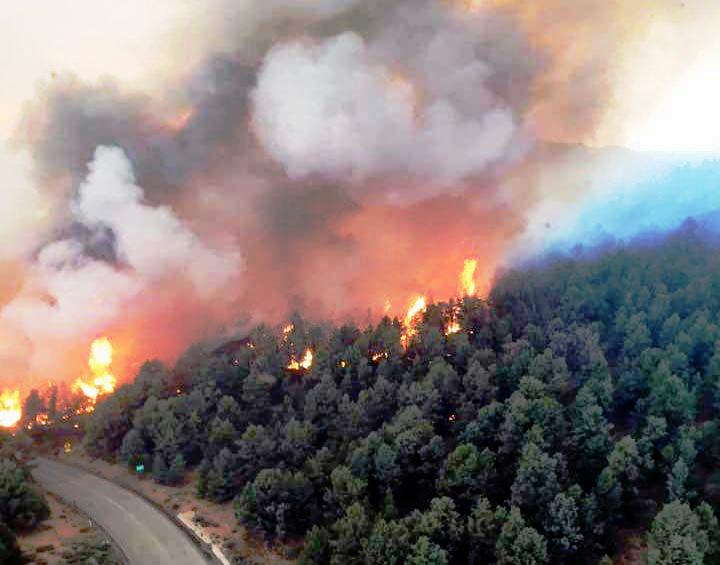fire: (1, 332, 140, 434), (395, 262, 494, 352), (268, 323, 324, 376)
